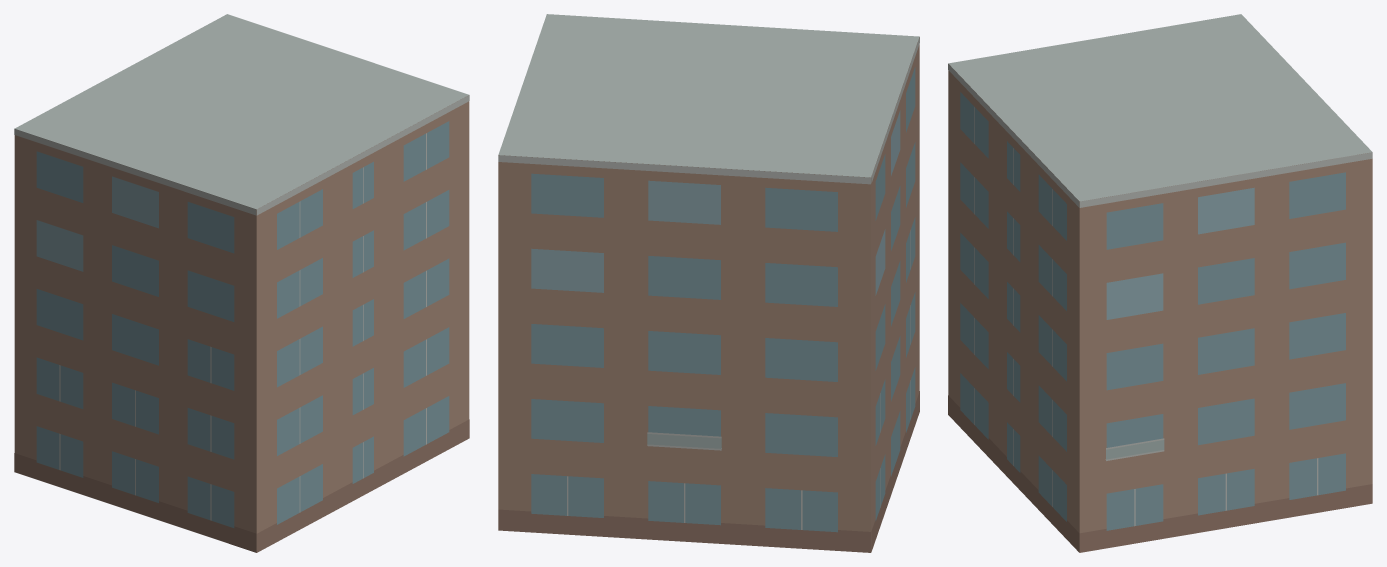
File: survey-upis-33007064.glb
3 views of the same model, side by side, from view 1: azimuth 30°, elevation 25°; view 2: azimuth 150°, elevation 25°; view 3: azimuth 270°, elevation 25° (orthographic). The views are drawn at different scales.
Visible parts, largest first — view 1: survey-upis-33007064.tmp; view 2: survey-upis-33007064.tmp; view 3: survey-upis-33007064.tmp.
Boxes of the visible parts, box(x1,y1,x2,y2) form: survey-upis-33007064.tmp: box(14, 14, 469, 552); survey-upis-33007064.tmp: box(498, 14, 919, 552); survey-upis-33007064.tmp: box(948, 14, 1372, 552).
Size of the model in its own units: 15.24 by 13.3 by 14.58.
